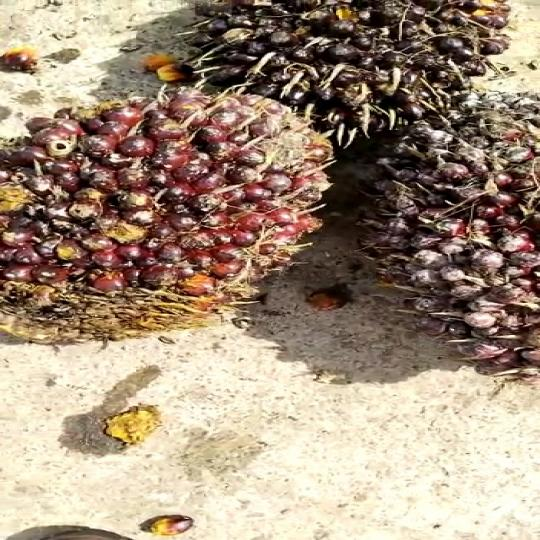kurang masak: (1, 89, 324, 351), (368, 96, 540, 383), (172, 0, 497, 139)
